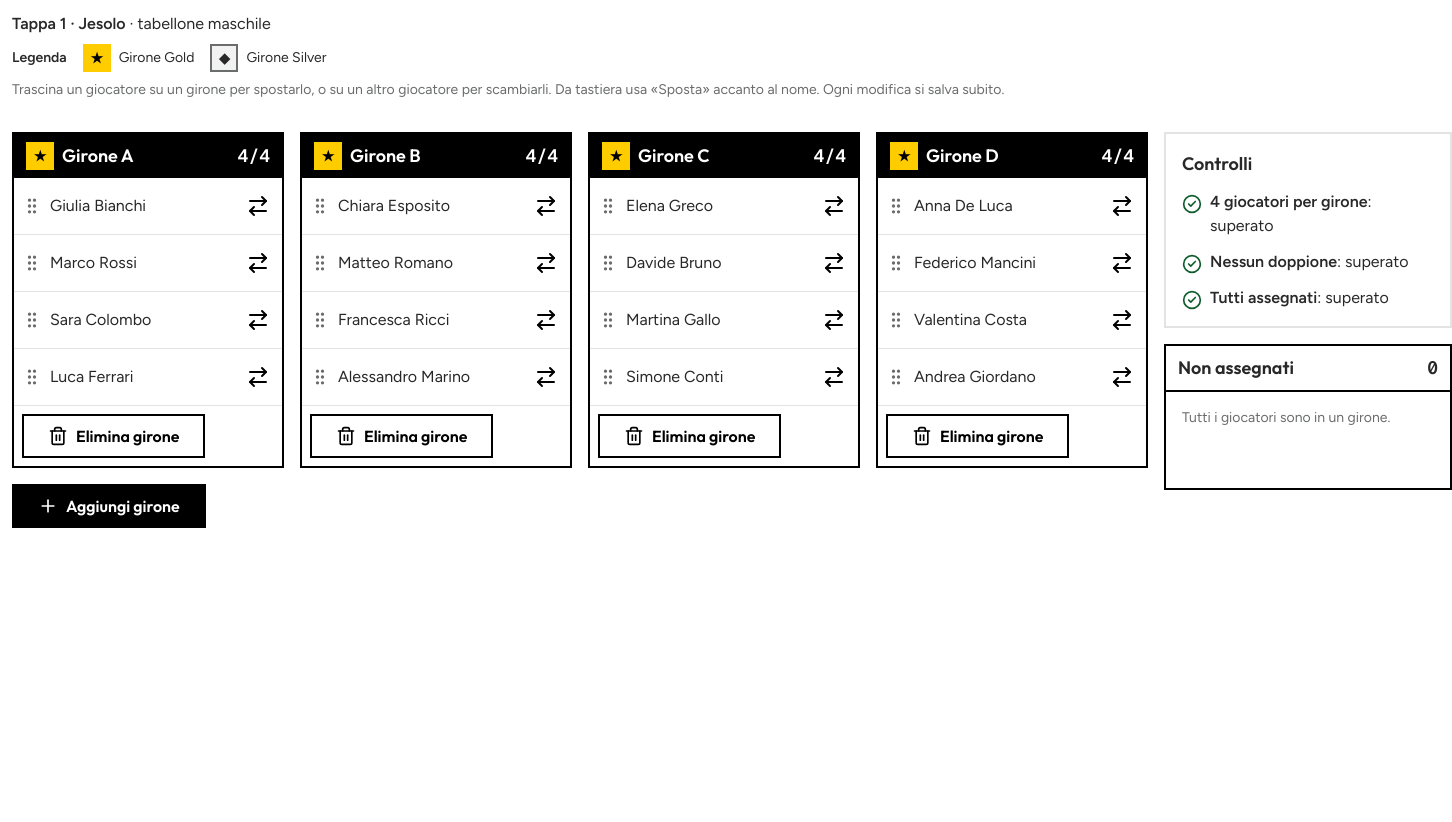
GironiEditor (w-admin-gironi) › offline non salva e lo dice
Click the button "Aggiungi girone": (109, 506) [12,484,206,528]
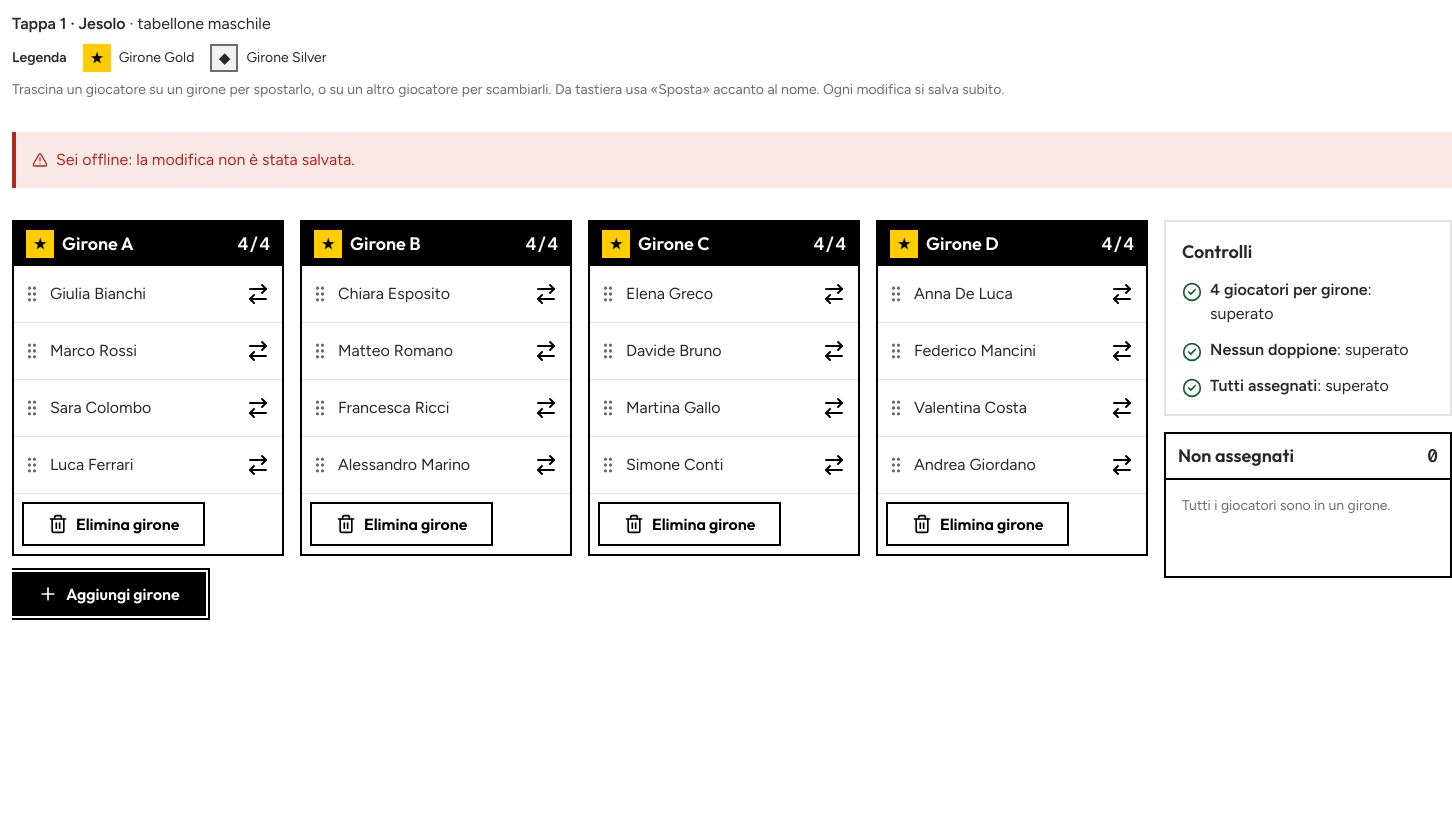
Expected: the message reads "Sei offline: la modifica non è stata salvata.", [56,150,355,169]
